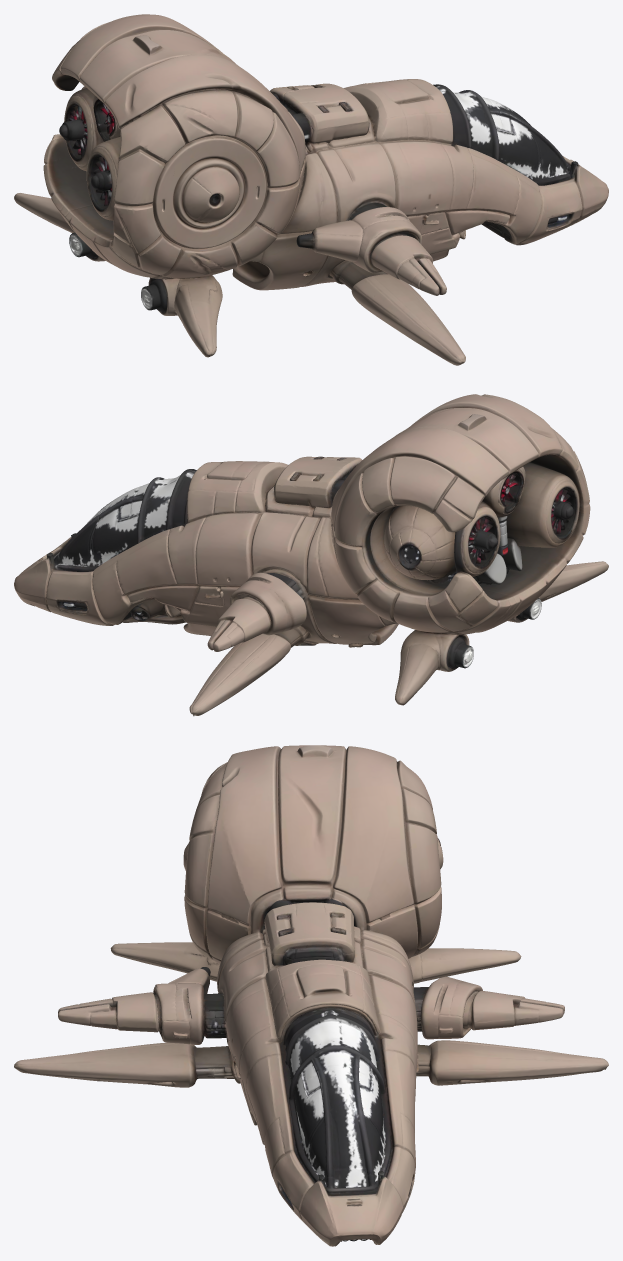
File: analytical.glb
3 renders of one model, top to bottom at view 1: azimuth 30°, elevation 25°; view 2: azimuth 150°, elevation 25°; view 3: azimuth 270°, elevation 25°, orthographic. The views are drawn at different scales.
Parts seen in each view (by area): view 1: tripo_node_a5c39a3e-abeb-4736-9073-7c08031489f8; view 2: tripo_node_a5c39a3e-abeb-4736-9073-7c08031489f8; view 3: tripo_node_a5c39a3e-abeb-4736-9073-7c08031489f8.
Part boxes in pixels (x1=…): tripo_node_a5c39a3e-abeb-4736-9073-7c08031489f8: x1=14, y1=14, x2=608, y2=365; tripo_node_a5c39a3e-abeb-4736-9073-7c08031489f8: x1=14, y1=394, x2=608, y2=716; tripo_node_a5c39a3e-abeb-4736-9073-7c08031489f8: x1=14, y1=745, x2=608, y2=1246.
Size of the model in its own units: 0.9809 by 0.491 by 0.9372.
Materials: 1 (1 with a texture image).
